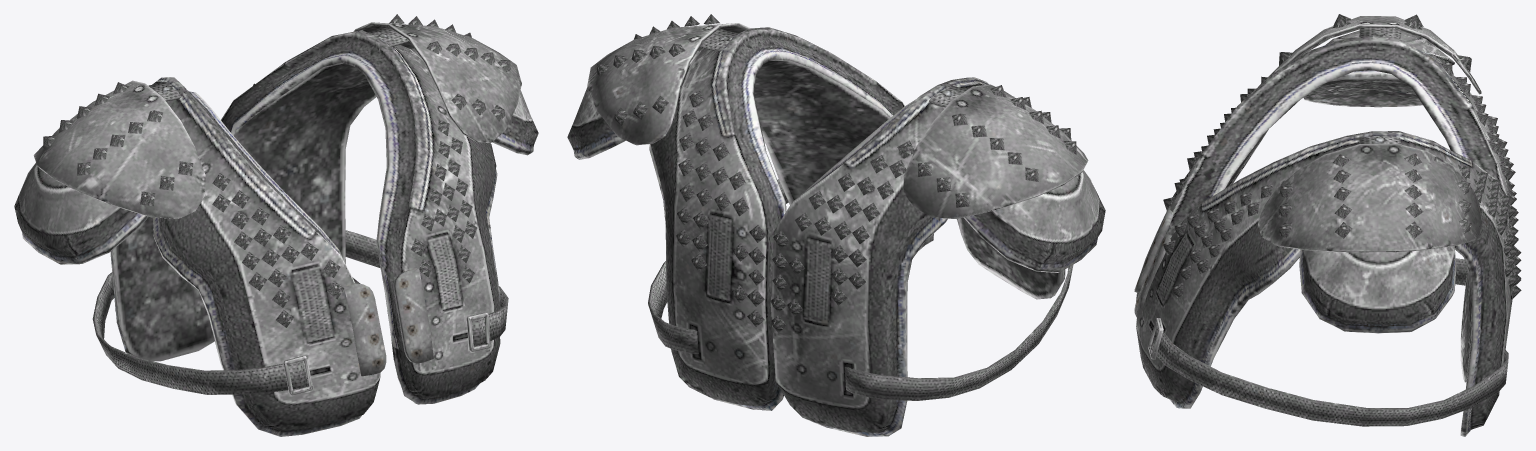
File: SurvivorMale_Armor_FootballPads_Studded_LOD0.glb
3 views of the same model, side by side, from view 1: azimuth 30°, elevation 25°; view 2: azimuth 150°, elevation 25°; view 3: azimuth 270°, elevation 25° (orthographic). The views are drawn at different scales.
Visible parts, largest first — view 1: Hoodie; view 2: Hoodie; view 3: Hoodie.
Boxes of the visible parts, box(x1,y1,x2,y2) form: Hoodie: box(14, 14, 538, 436); Hoodie: box(567, 14, 1105, 436); Hoodie: box(1134, 14, 1521, 436).
Bounding box in the file's own units: 0.5691 × 0.349 × 0.3929.
1 material, 1 textured.
